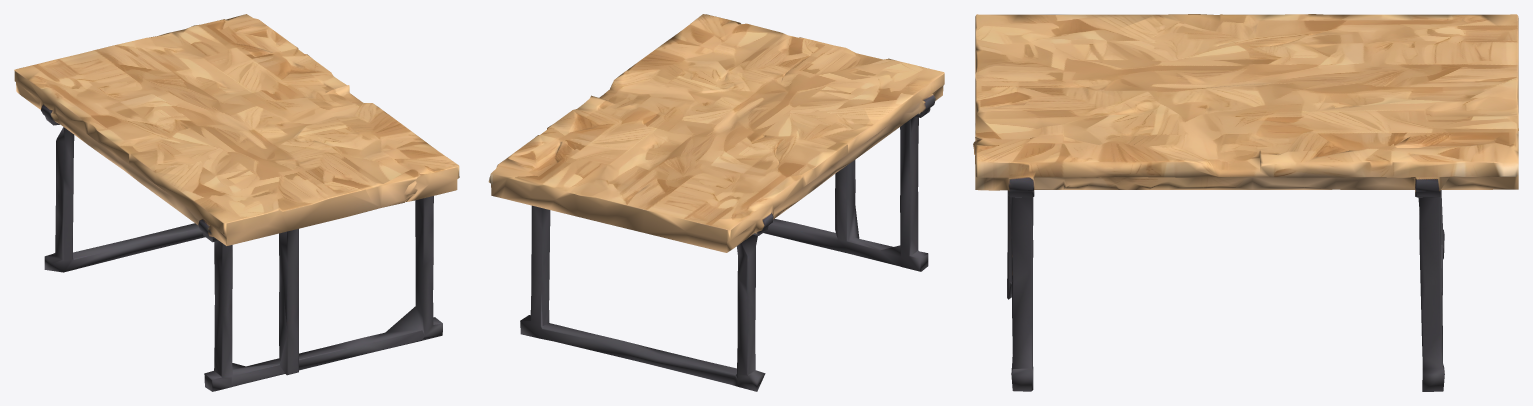
Rendered from desk2a.glb.
3 renders of one model, left to right at view 1: azimuth 30°, elevation 25°; view 2: azimuth 150°, elevation 25°; view 3: azimuth 270°, elevation 25°, orthographic. The views are drawn at different scales.
Visible parts, largest first — view 1: tripo_node_0ea87d50-29aa-4284-9998-43b496652499; view 2: tripo_node_0ea87d50-29aa-4284-9998-43b496652499; view 3: tripo_node_0ea87d50-29aa-4284-9998-43b496652499.
Boxes of the visible parts, left/top/right/bottom form: tripo_node_0ea87d50-29aa-4284-9998-43b496652499: left=14, top=14, right=459, bottom=391; tripo_node_0ea87d50-29aa-4284-9998-43b496652499: left=488, top=14, right=944, bottom=391; tripo_node_0ea87d50-29aa-4284-9998-43b496652499: left=973, top=14, right=1518, bottom=391.
Size of the model in its own units: 0.6587 by 0.4714 by 1.
Materials: 1 (1 with a texture image).
